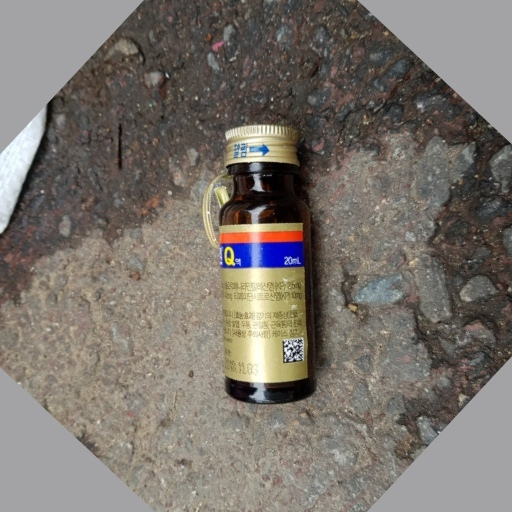Glass_3: (204, 122, 321, 406)
